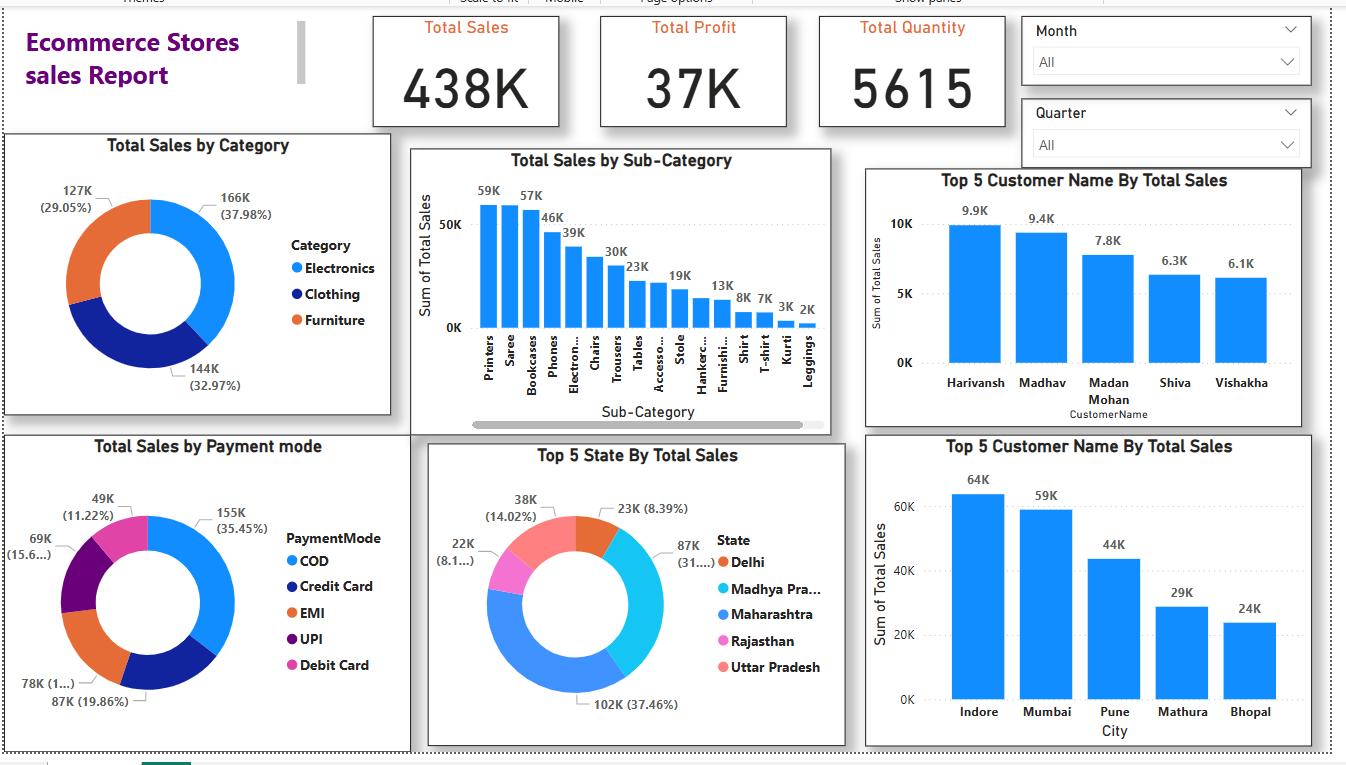

The page's visual inventory and layout, read from the dashboard file:
{"tool":"powerbi","page":{"name":"Page 1","canvas":[1280,720],"ordinal":0},"visuals":[{"type":"textbox","box":[15.1,9.6,279.9,74.1],"z":0},{"type":"card","title":"Total Sales","fields":{"Values":["Details.Total Sales"]},"box":[355.4,9.6,179.8,107],"z":1000},{"type":"card","title":"Total Profit","fields":{"Values":["Details.Profit"]},"box":[575,9.6,179.8,107],"z":2000},{"type":"card","title":"Total Quantity","fields":{"Values":["Details.Quantity"]},"box":[786.3,9.6,179.8,107],"z":3000},{"type":"slicer","fields":{"Values":["Orders (2).Order Date.Variation.Date Hierarchy.Month"]},"box":[982.5,9.6,279.9,67.2],"z":4000},{"type":"slicer","fields":{"Values":["Orders (2).Order Date.Variation.Date Hierarchy.Quarter"]},"box":[982.5,89.2,279.9,67.2],"z":5000},{"type":"donutChart","title":"Total Sales by Category","fields":{"Y":["Details.Total Sales"],"Category":["Details.Category"]},"box":[0,123.5,373.2,271.7],"z":6000},{"type":"donutChart","title":"Total Sales by Payment mode","fields":{"Y":["Details.Total Sales"],"Category":["Details.PaymentMode"]},"box":[0,414.4,392.5,306],"z":7000},{"type":"columnChart","title":"Total Sales by Sub-Category","fields":{"Category":["Details.Sub-Category"],"Y":["Details.Total Sales"]},"box":[392.5,137.2,406.2,277.2],"z":8000},{"type":"donutChart","title":"Top 5 State By Total Sales","fields":{"Y":["Details.Total Sales"],"Series":["Orders (2).State"]},"box":[408.9,422.6,403.4,292.3],"z":9000},{"type":"columnChart","title":"Top 5 Customer Name By Total Sales","fields":{"Category":["Orders (2).CustomerName"],"Y":["Details.Total Sales"]},"box":[831.6,156.4,421.3,249.7],"z":10000},{"type":"columnChart","title":"Top 5 Customer Name By Total Sales","fields":{"Y":["Details.Total Sales"],"Category":["Orders (2).City"]},"box":[831.6,414.4,430.9,300.5],"z":11000}]}

Visuals, with their boxes in screenshot pixels (x1, y1, x2, y2):
textbox: box=[16, 13, 306, 90]
"Total Sales" card: box=[369, 13, 555, 124]
"Total Profit" card: box=[596, 13, 783, 124]
"Total Quantity" card: box=[815, 13, 1002, 124]
slicer - Orders (2).Order Date.Variation.Date Hierarchy.Month: box=[1019, 13, 1309, 83]
slicer - Orders (2).Order Date.Variation.Date Hierarchy.Quarter: box=[1019, 96, 1309, 166]
"Total Sales by Category" donutChart: box=[0, 132, 387, 413]
"Total Sales by Payment mode" donutChart: box=[0, 433, 407, 751]
"Total Sales by Sub-Category" columnChart: box=[407, 146, 828, 433]
"Top 5 State By Total Sales" donutChart: box=[424, 442, 842, 745]
"Top 5 Customer Name By Total Sales" columnChart: box=[862, 166, 1299, 425]
"Top 5 Customer Name By Total Sales" columnChart: box=[862, 433, 1309, 745]
